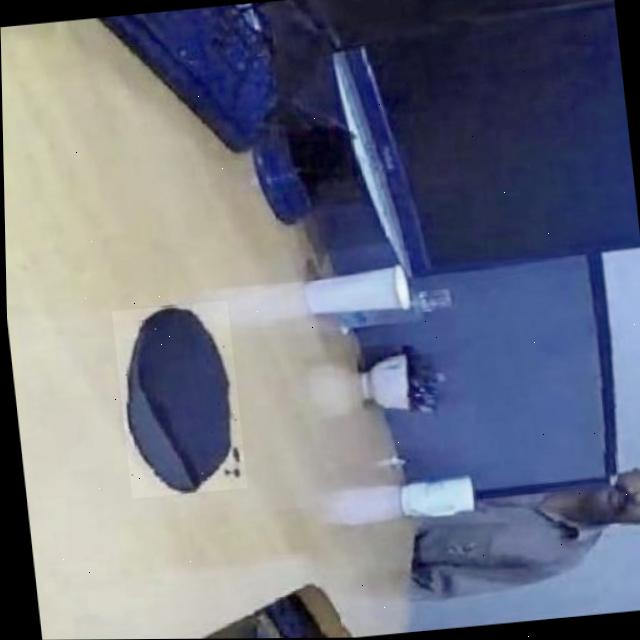spillage: (120, 306, 242, 493)
